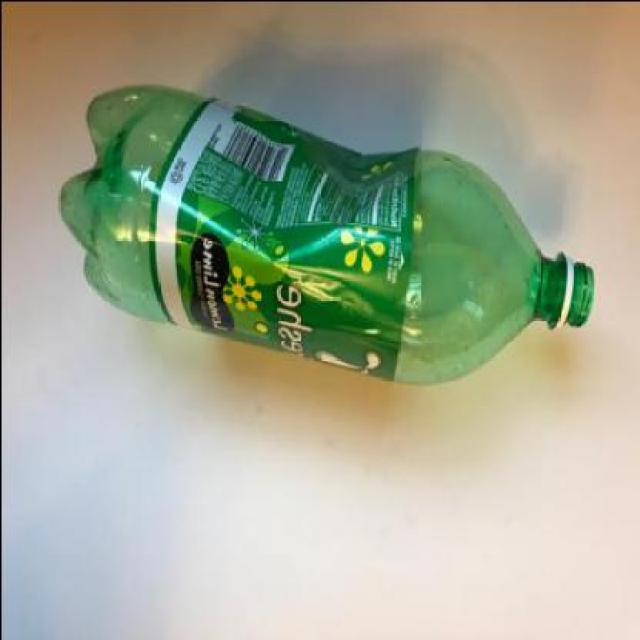PLASTIC: (58, 82, 593, 380)
